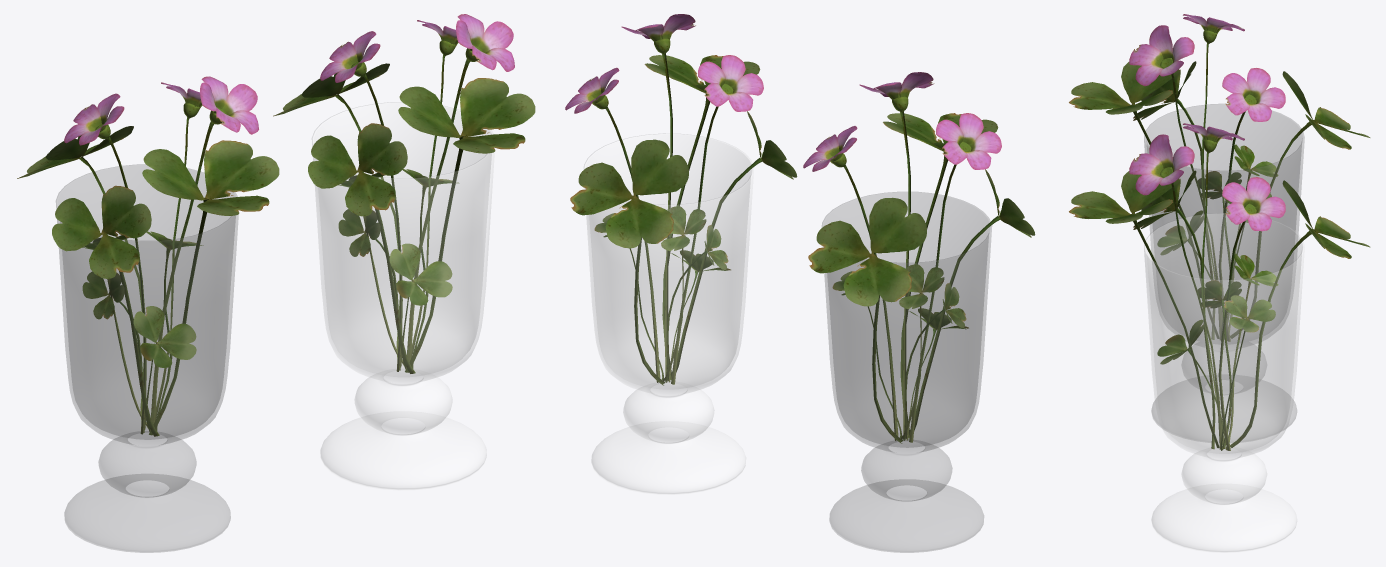
File: fleurs-vase.glb
3 views of the same model, side by side, from view 1: azimuth 30°, elevation 25°; view 2: azimuth 150°, elevation 25°; view 3: azimuth 270°, elevation 25° (orthographic). The views are drawn at different scales.
Visible parts, largest first — view 1: Flowers1, GlassAlpha, GlassTransmission; view 2: Flowers1, GlassAlpha, GlassTransmission; view 3: GlassTransmission, Flowers1, GlassAlpha.
Part boxes in pixels (<box>): Flowers1: <box>17,14,535,436</box>; GlassAlpha: <box>56,164,238,552</box>; GlassTransmission: <box>312,102,494,490</box>; Flowers1: <box>565,14,1035,443</box>; GlassAlpha: <box>822,192,991,552</box>; GlassTransmission: <box>584,133,753,494</box>; GlassTransmission: <box>1144,213,1304,552</box>; Flowers1: <box>1069,14,1370,450</box>; GlassAlpha: <box>1144,104,1304,442</box>.
Bounding box in the file's own units: 0.2173 × 0.2032 × 0.1425.
3 materials, 1 textured.
